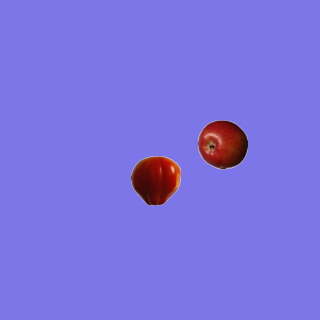Apple Braeburn: (197, 119, 247, 169)
Tomato 1: (130, 155, 180, 205)
